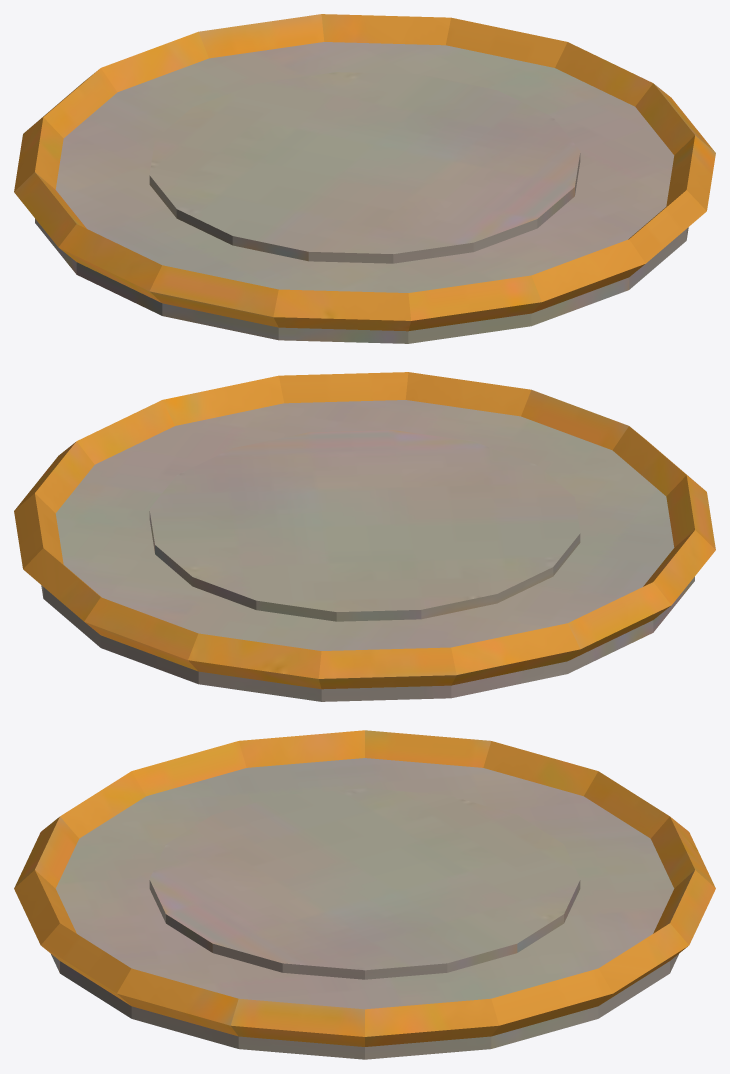
File: pad_off.glb
3 renders of one model, top to bottom at view 1: azimuth 30°, elevation 25°; view 2: azimuth 150°, elevation 25°; view 3: azimuth 270°, elevation 25°, orthographic.
Parts seen in each view (by area): view 1: pad_off; view 2: pad_off; view 3: pad_off.
Boxes of the visible parts, x1,y1,x2,y2 form: pad_off: (14,14,715,343); pad_off: (14,372,715,701); pad_off: (14,730,715,1059).
Size of the model in its own units: 2.02 by 0.16 by 2.02.
Materials: 1 (1 with a texture image).
